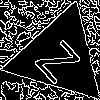Z: (33, 31, 90, 85)
